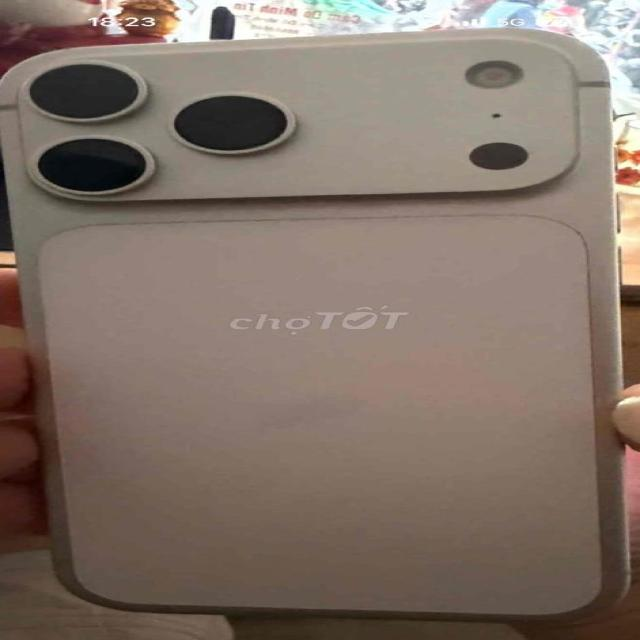gen_17: (0, 21, 640, 627)
